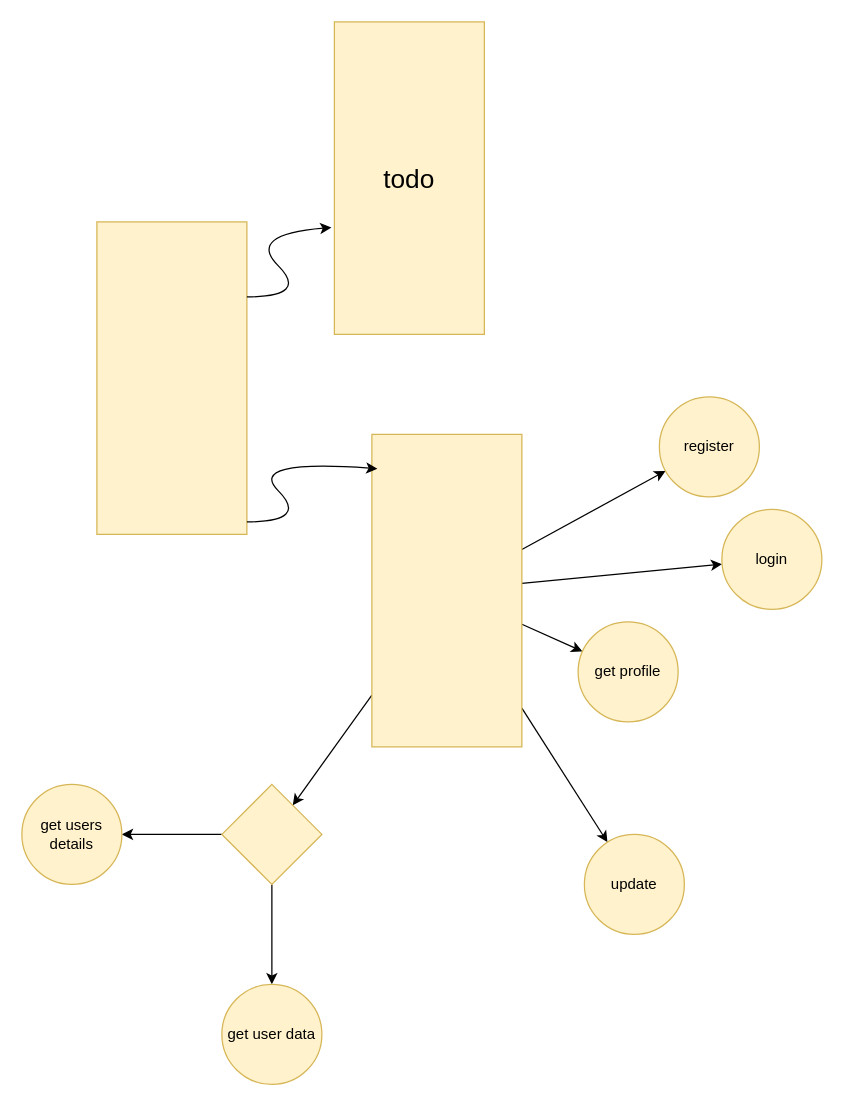
This 844x1106 diagram has some shape labels left out. The shapes that lost their labels are listed below. From the top down, each one's centre as x and y in pixels, then its label:
point 171,377: task
point 446,590: users
point 271,833: admin
